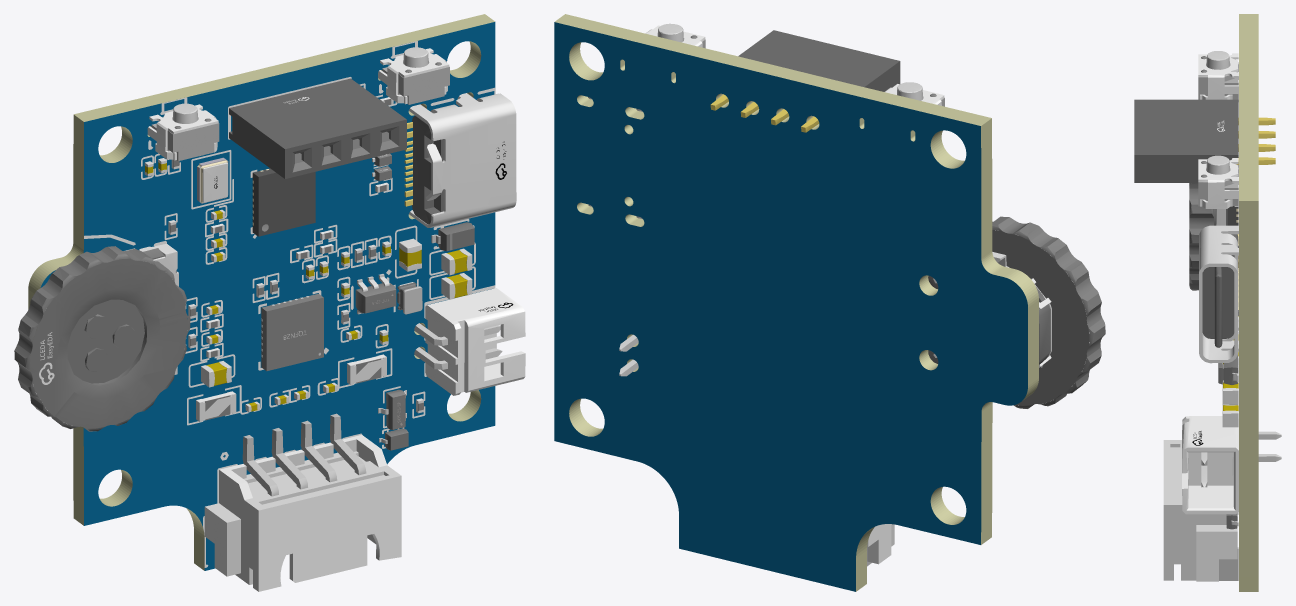
The model's file is microstepper.glb.
3 renders of one model, left to right at view 1: azimuth 30°, elevation 25°; view 2: azimuth 150°, elevation 25°; view 3: azimuth 270°, elevation 25°, orthographic. The views are drawn at different scales.
Visible parts, largest first — view 1: Node; view 2: Node; view 3: Node.
Part boxes in pixels (x1=…): Node: x1=14, y1=14, x2=525, y2=591; Node: x1=554, y1=14, x2=1105, y2=591; Node: x1=1134, y1=14, x2=1281, y2=591.
Size of the model in its own units: 43.35 by 39.98 by 12.
